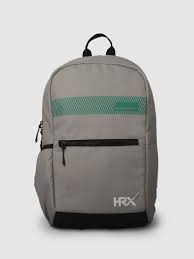backpack: (33, 32, 158, 229)
